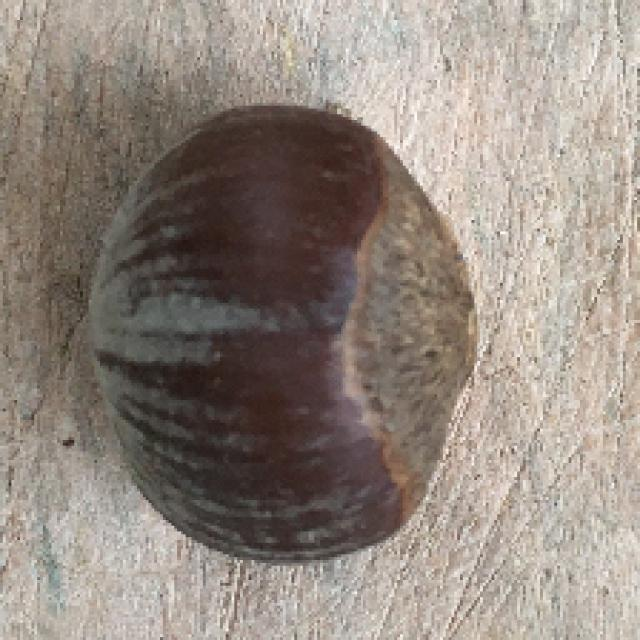damagedHazelnut: (81, 106, 482, 559)
